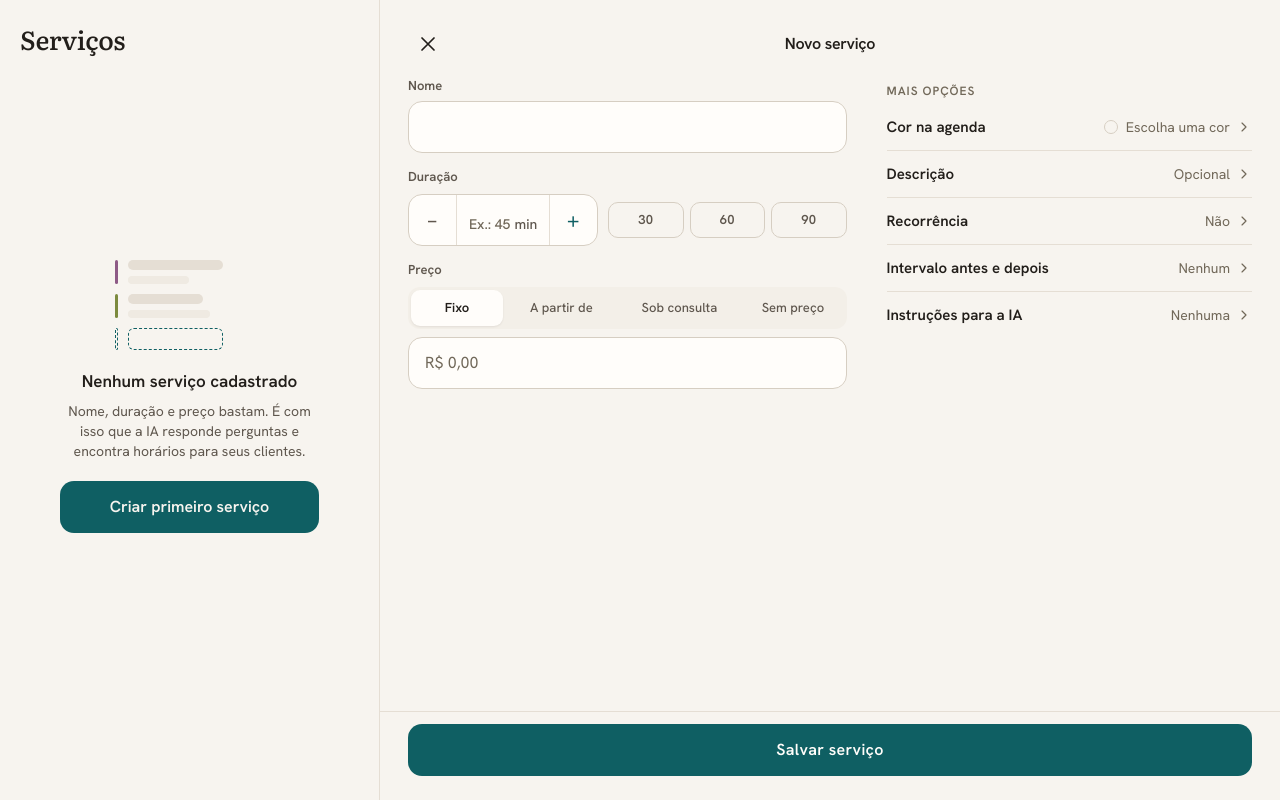
it: §4.6 a frase 'A IA responde' por tipo de preço › ON_REQUEST: 'O valor de Coloração é combinado no atendimento, que leva 1 h 30.'
Step 1. Type "Coloração" into the field labelled "Nome" → (627, 127), box [408,101,846,153]
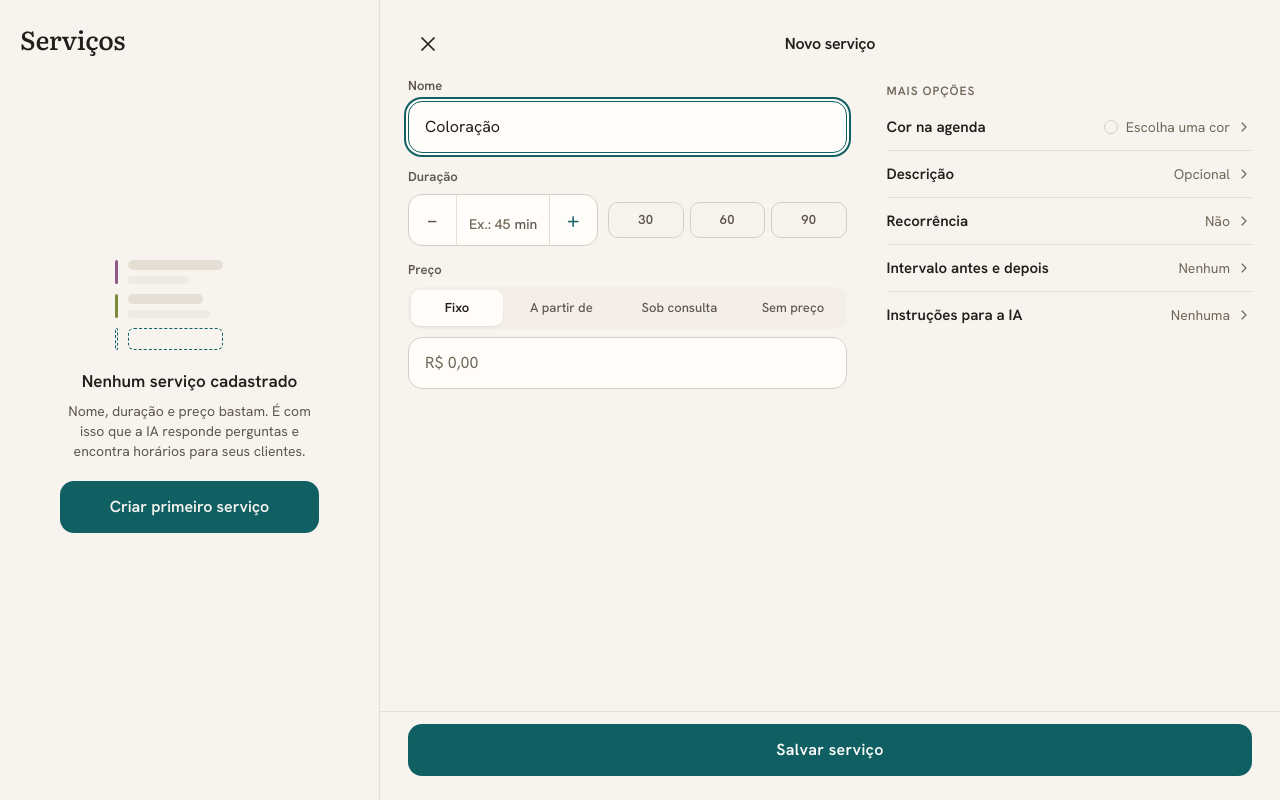
Step 2. Type "90" into the number field named "Duração (minutos)" → (490, 220), box [469,205,510,235]
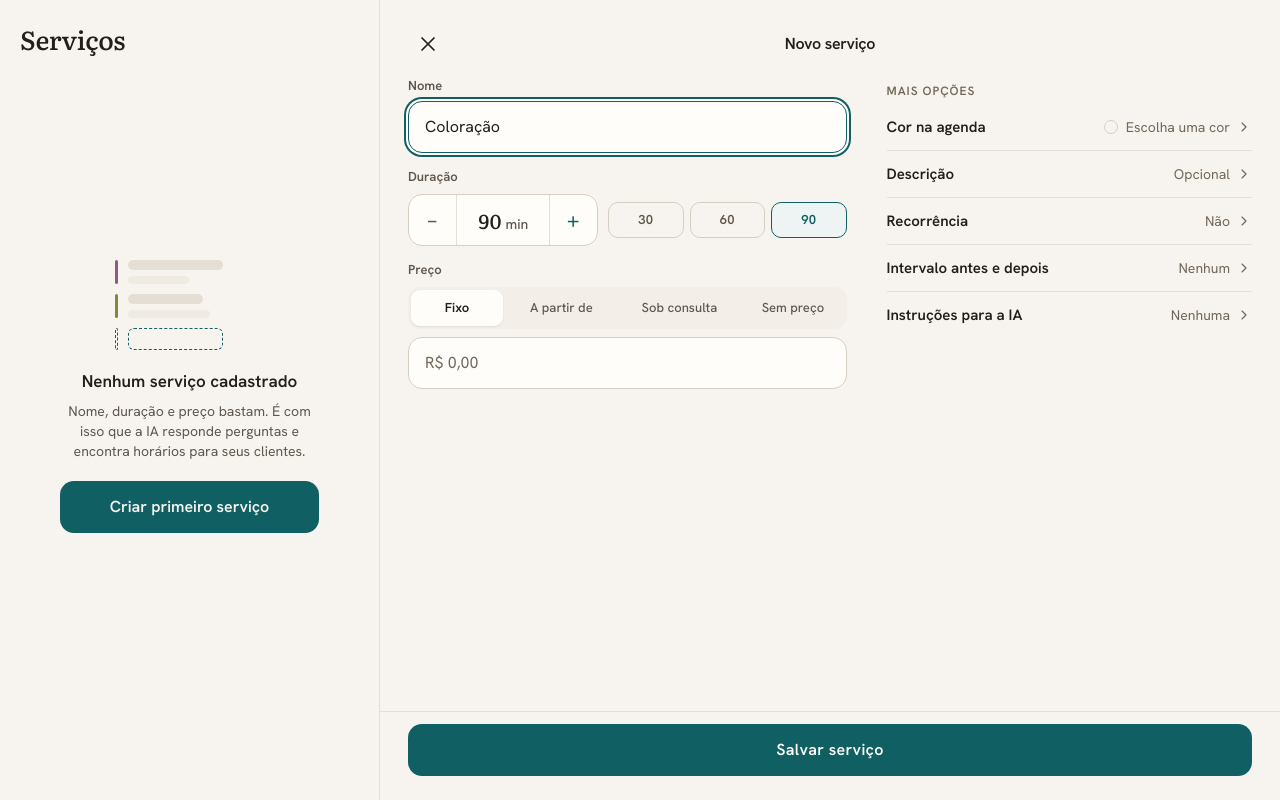
Step 3. Click the radio button labelled "Sob consulta" → click(679, 307), box [642,299,717,316]
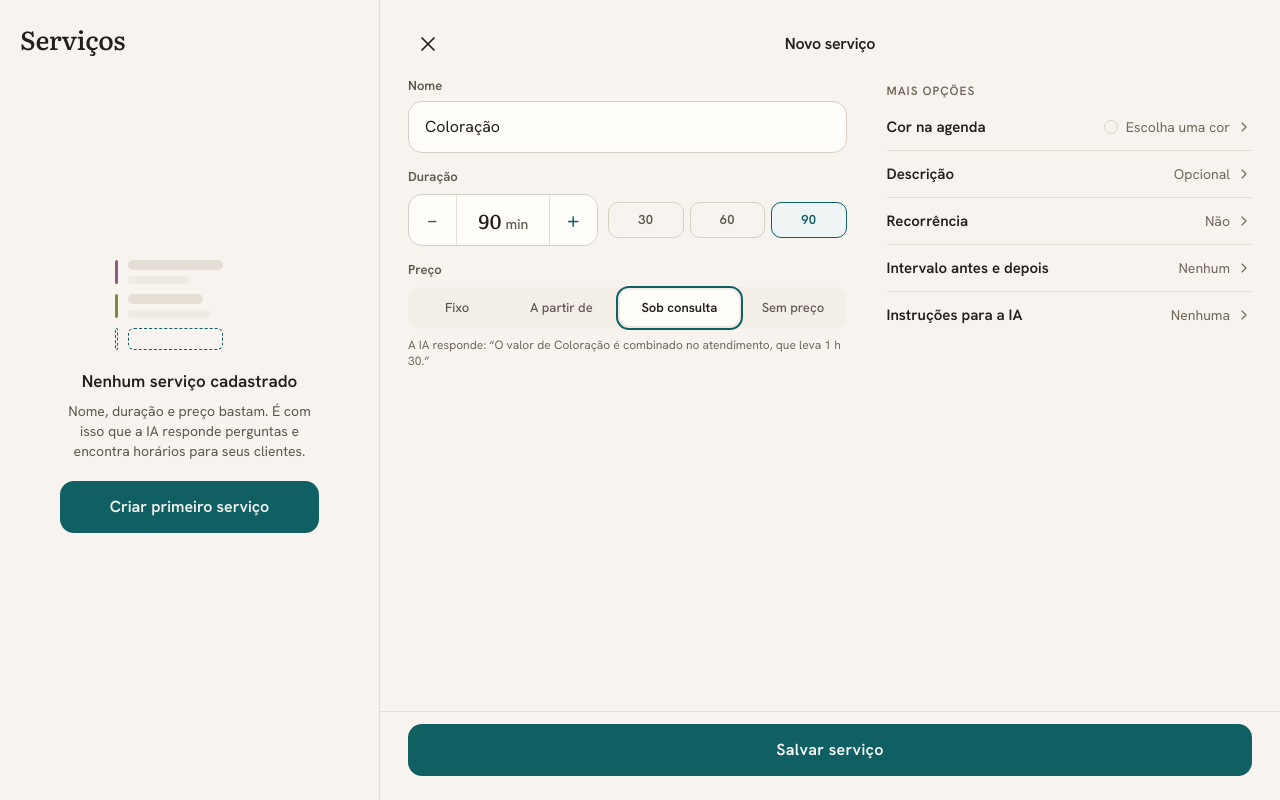
Now the text "A IA responde: “O valor de Coloração é combinado no atendimento, que leva 1 h 30.”" is shown, box [408,337,846,370]
